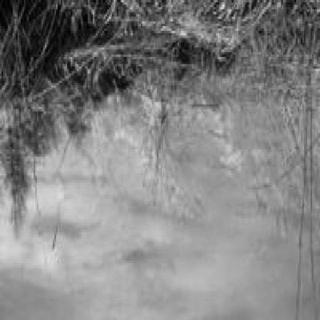Fire: (3, 51, 243, 230)
